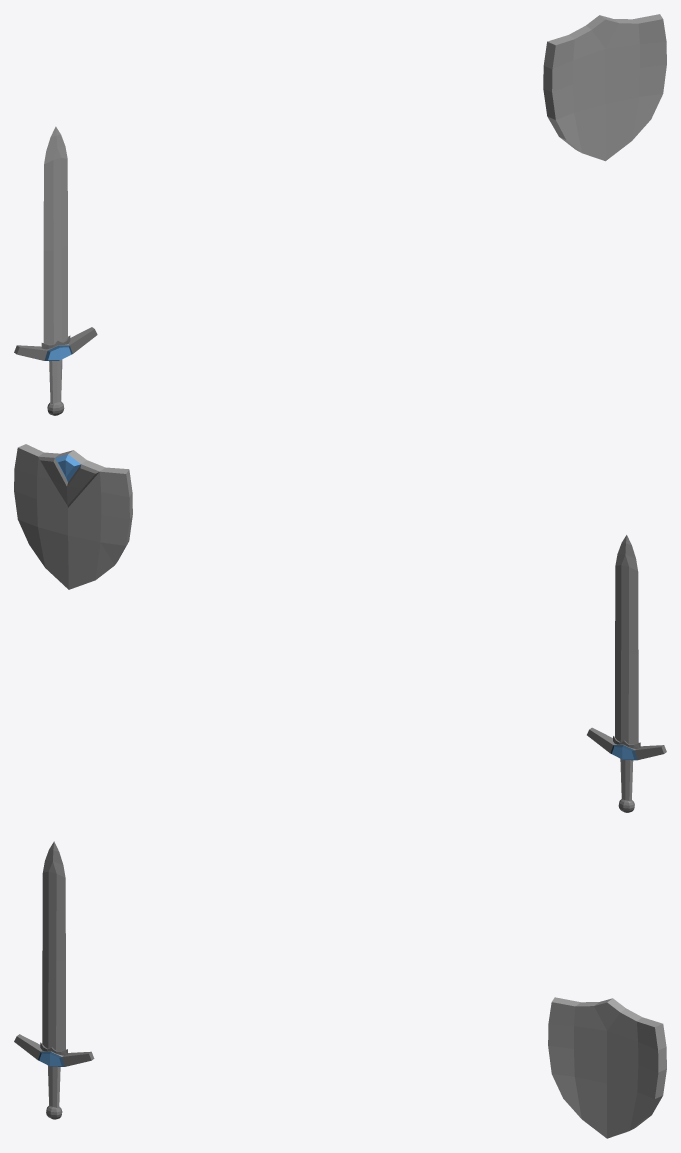
The model's file is ShieldSword.fbx.
3 renders of one model, top to bottom at view 1: azimuth 30°, elevation 25°; view 2: azimuth 150°, elevation 25°; view 3: azimuth 330°, elevation 25°, orthographic. The views are drawn at different scales.
Parts seen in each view (by area): view 1: Shield 1.001, Sword 1.001; view 2: Shield 1.001, Sword 1.001; view 3: Shield 1.001, Sword 1.001.
Part boxes in pixels (left/top/right/bottom): Shield 1.001: left=543, top=14, right=666, bottom=161; Sword 1.001: left=14, top=126, right=97, bottom=415; Shield 1.001: left=14, top=444, right=132, bottom=589; Sword 1.001: left=587, top=535, right=666, bottom=812; Shield 1.001: left=548, top=997, right=666, bottom=1138; Sword 1.001: left=14, top=841, right=94, bottom=1119.
Bounding box in the file's own units: 320 × 133 × 21.69.
